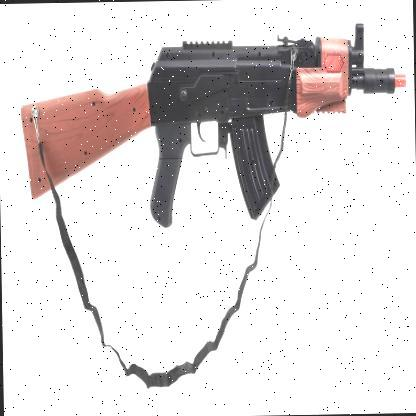rifle: (14, 7, 408, 232)
